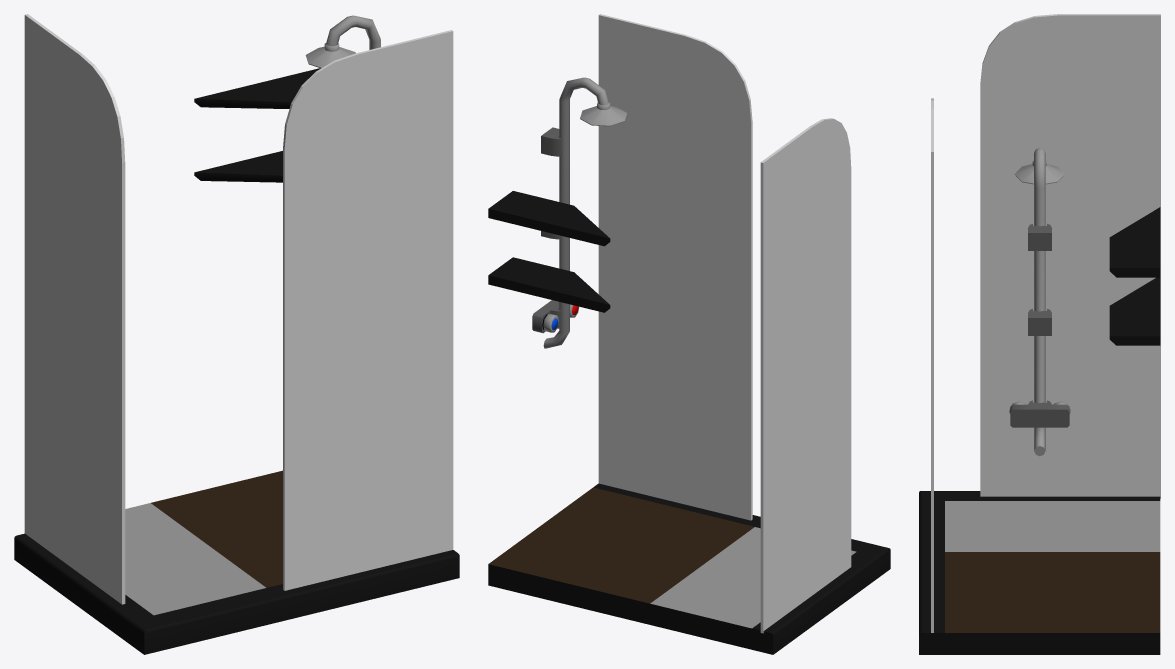
The model's file is Ducha.FBX.
3 views of the same model, side by side, from view 1: azimuth 30°, elevation 25°; view 2: azimuth 150°, elevation 25°; view 3: azimuth 270°, elevation 25° (orthographic). The views are drawn at different scales.
Visible parts, largest first — view 1: Box013, Box014, Box006, Box012, Box007, Cylinder006; view 2: Box013, Box014, Box006, Cylinder006, Box007, Box012; view 3: Box014, Box006, Cylinder006, Box012, Box007, Box013, Box009, Box011, Box010.
Boxes of the visible parts, bbox=[...] form: Box013: bbox=[283, 30, 453, 590]; Box014: bbox=[24, 14, 125, 604]; Box006: bbox=[14, 470, 459, 654]; Box012: bbox=[194, 68, 320, 108]; Box007: bbox=[194, 151, 282, 182]; Cylinder006: bbox=[305, 15, 380, 68]; Box013: bbox=[598, 14, 752, 520]; Box014: bbox=[760, 118, 851, 633]; Box006: bbox=[488, 483, 890, 654]; Cylinder006: bbox=[543, 77, 627, 348]; Box007: bbox=[488, 257, 610, 312]; Box012: bbox=[488, 191, 610, 246]; Box014: bbox=[980, 14, 1160, 498]; Box006: bbox=[919, 491, 1160, 654]; Cylinder006: bbox=[1014, 148, 1064, 456]; Box012: bbox=[1109, 207, 1160, 277]; Box007: bbox=[1109, 277, 1160, 345]; Box013: bbox=[931, 98, 933, 632]; Box009: bbox=[1010, 400, 1069, 427]; Box011: bbox=[1028, 223, 1051, 250]; Box010: bbox=[1028, 309, 1051, 335].
Bounding box in the file's own units: 140 × 230 × 100.
